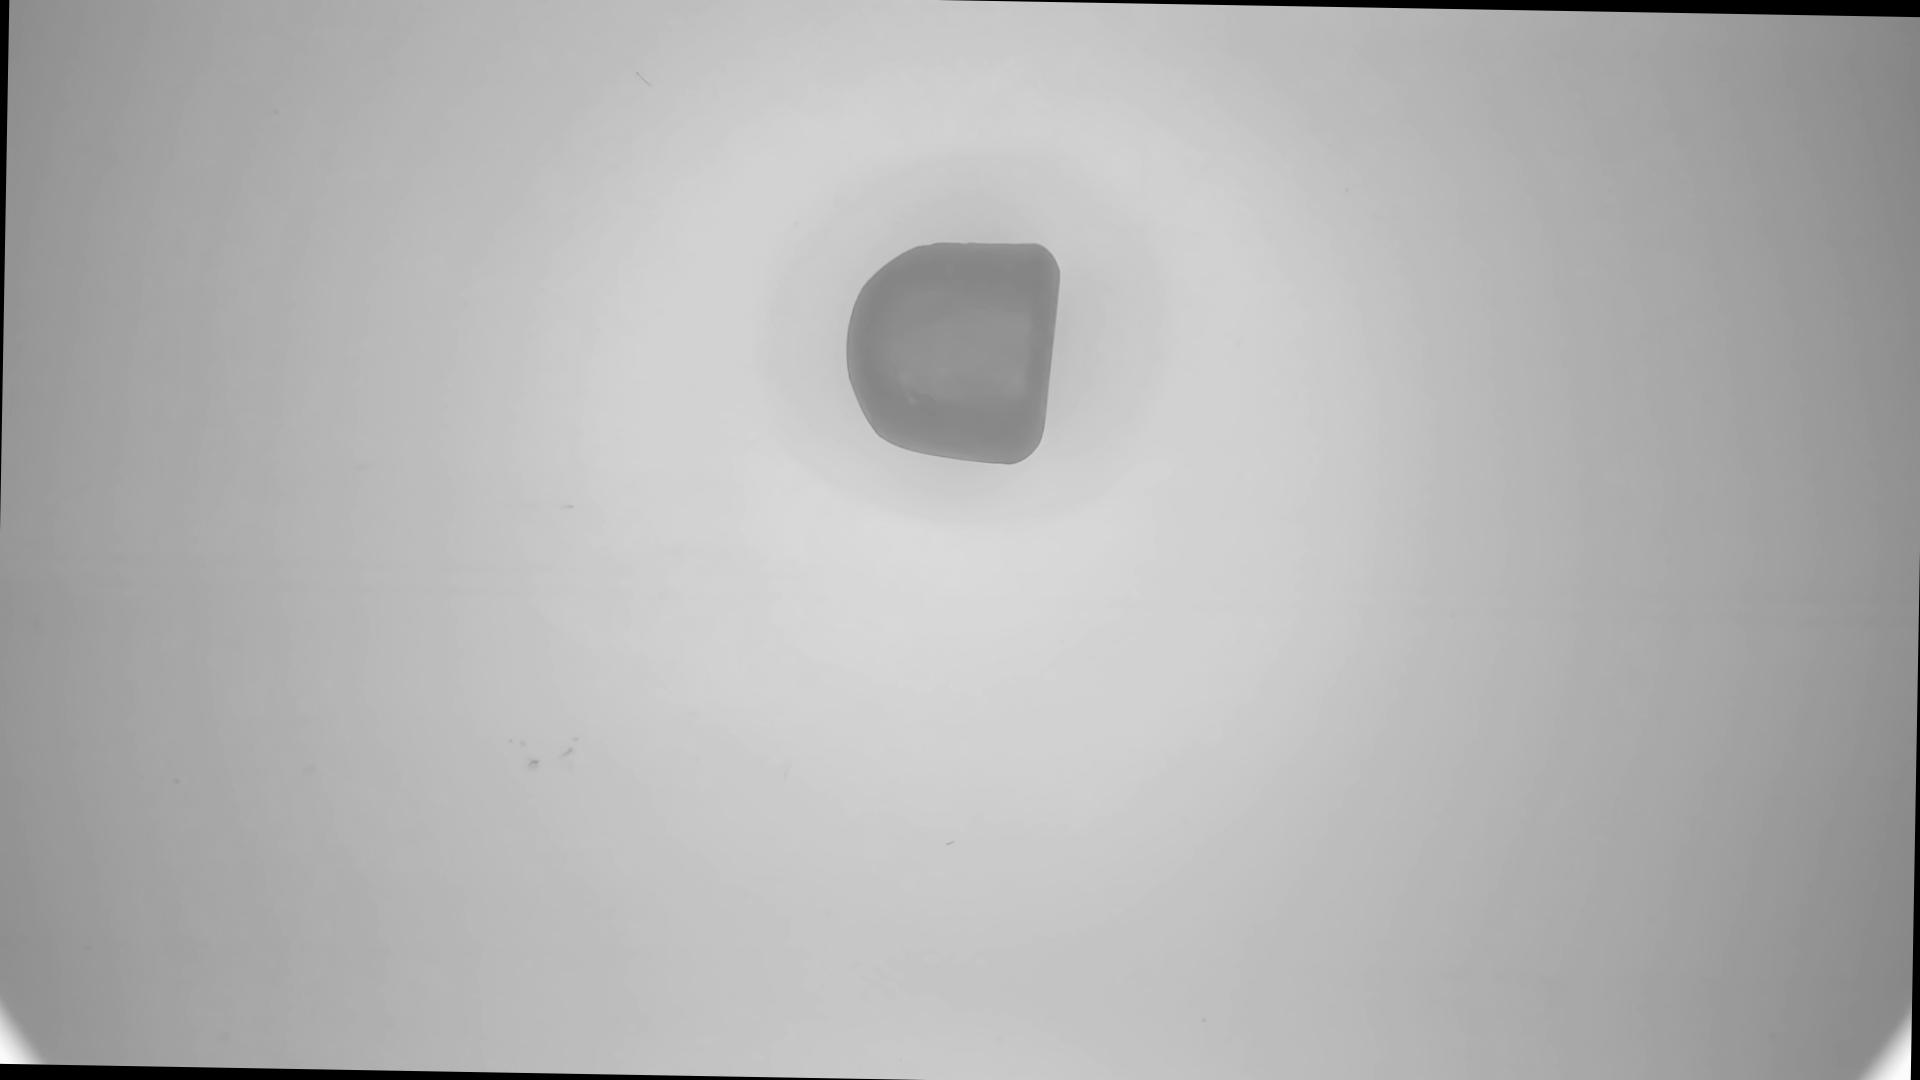normal: (843, 236, 1065, 471)
